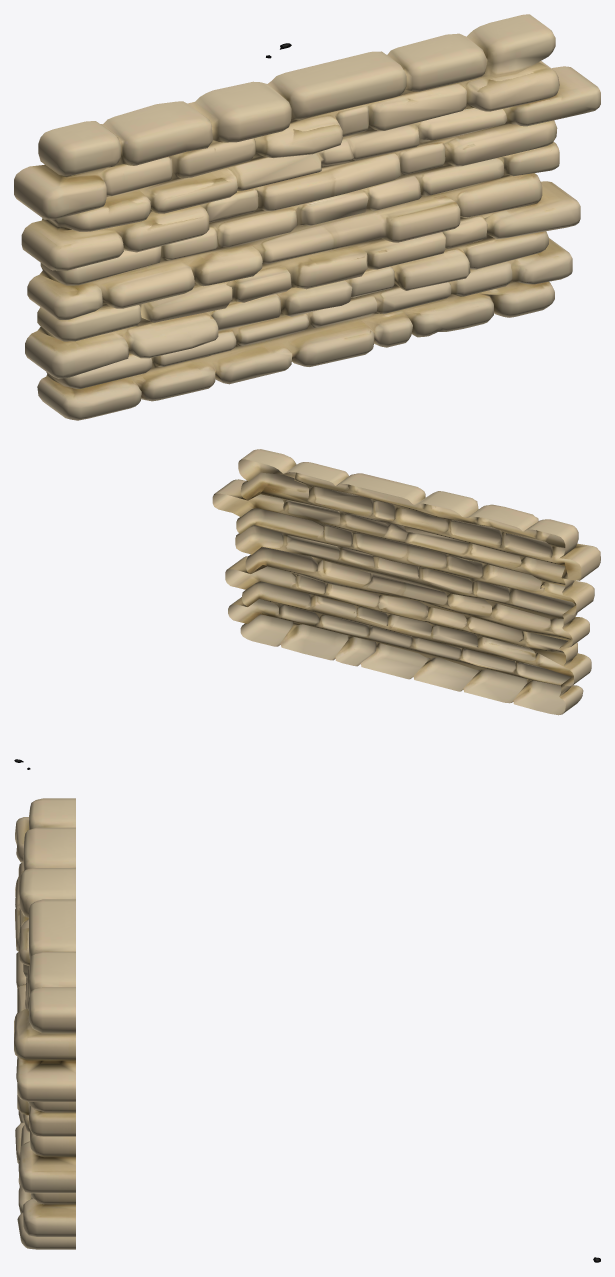
File: selected.glb
3 renders of one model, top to bottom at view 1: azimuth 30°, elevation 25°; view 2: azimuth 150°, elevation 25°; view 3: azimuth 270°, elevation 25°, orthographic. The views are drawn at different scales.
Parts seen in each view (by area): view 1: tripo_node_6687ca35-f9e5-4bd7-8ef8-5898494bb484; view 2: tripo_node_6687ca35-f9e5-4bd7-8ef8-5898494bb484; view 3: tripo_node_6687ca35-f9e5-4bd7-8ef8-5898494bb484.
Boxes of the visible parts, x1,y1,x2,y2 form: tripo_node_6687ca35-f9e5-4bd7-8ef8-5898494bb484: (14,14,600,420); tripo_node_6687ca35-f9e5-4bd7-8ef8-5898494bb484: (14,449,600,769); tripo_node_6687ca35-f9e5-4bd7-8ef8-5898494bb484: (14,798,600,1262).
Size of the model in its own units: 0.998 by 0.459 by 0.998.
Materials: 1 (1 with a texture image).
